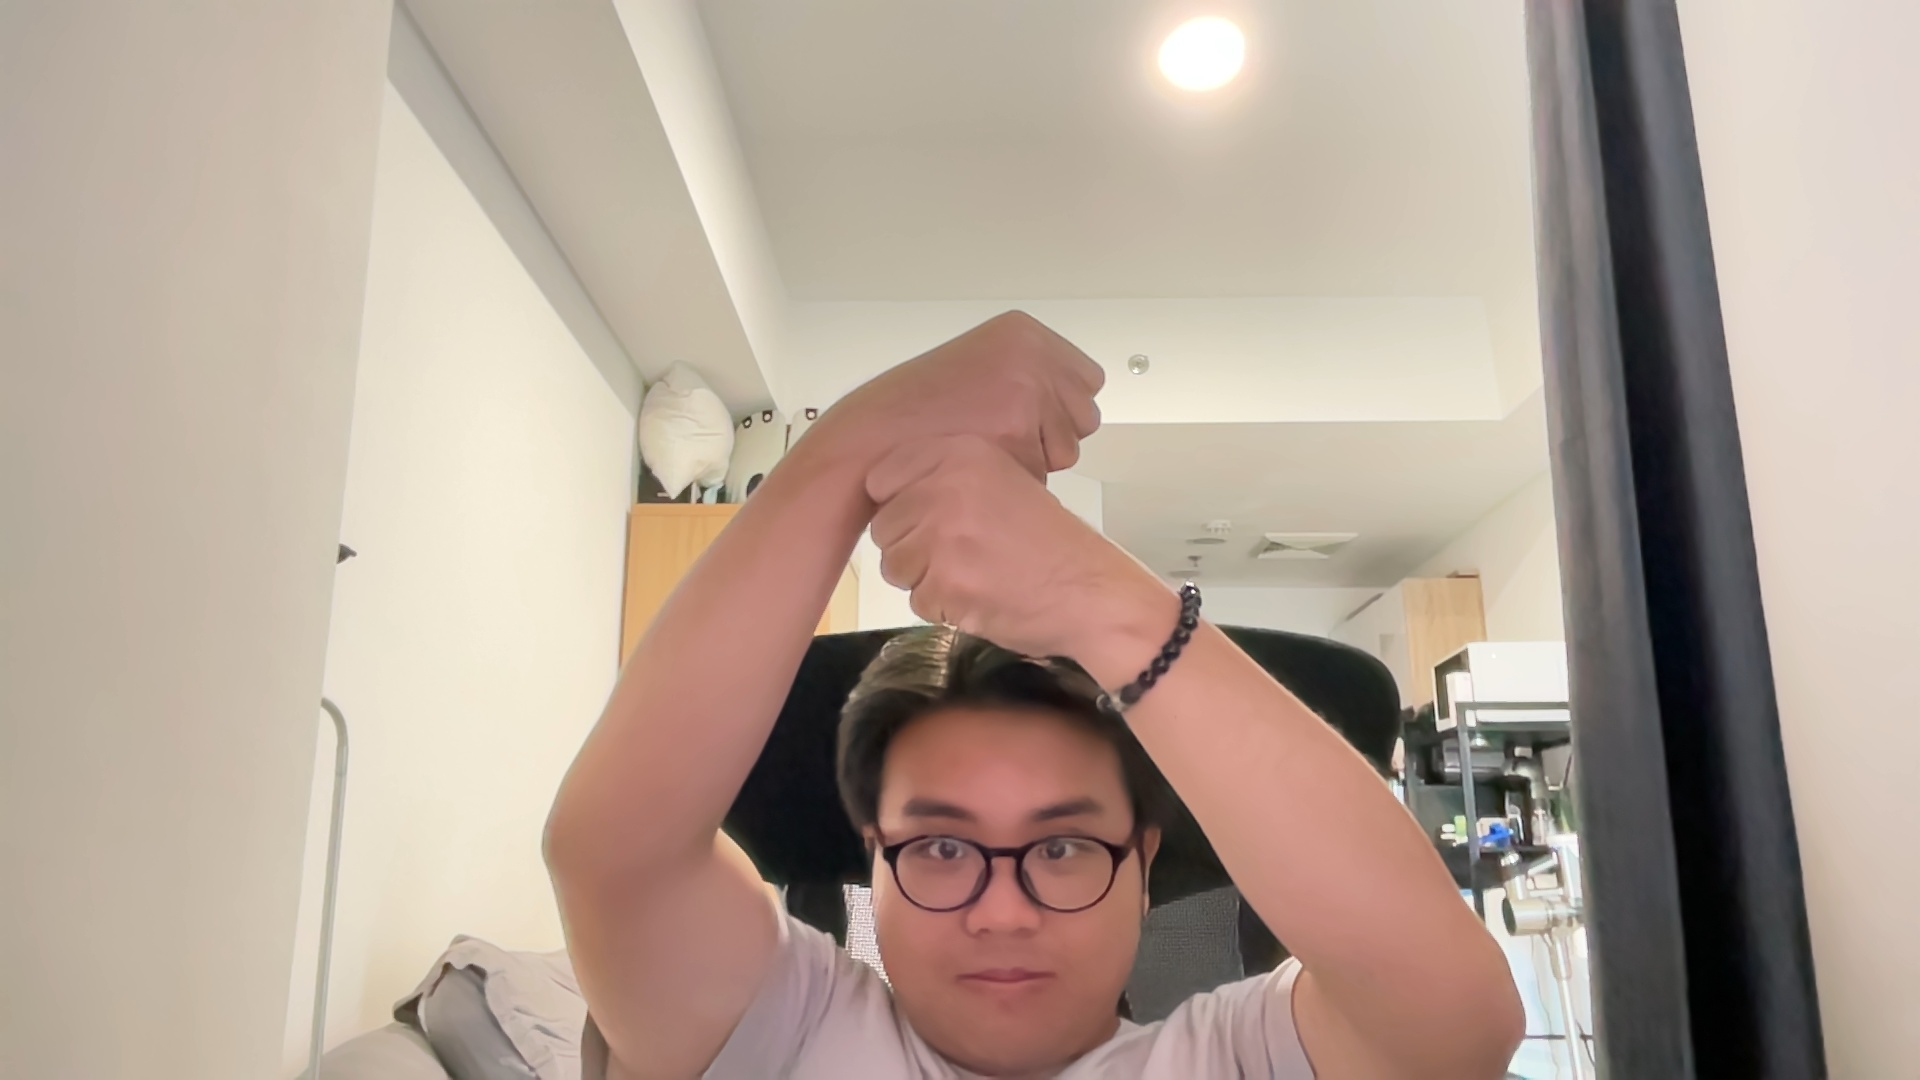g: (673, 295, 1284, 735)
